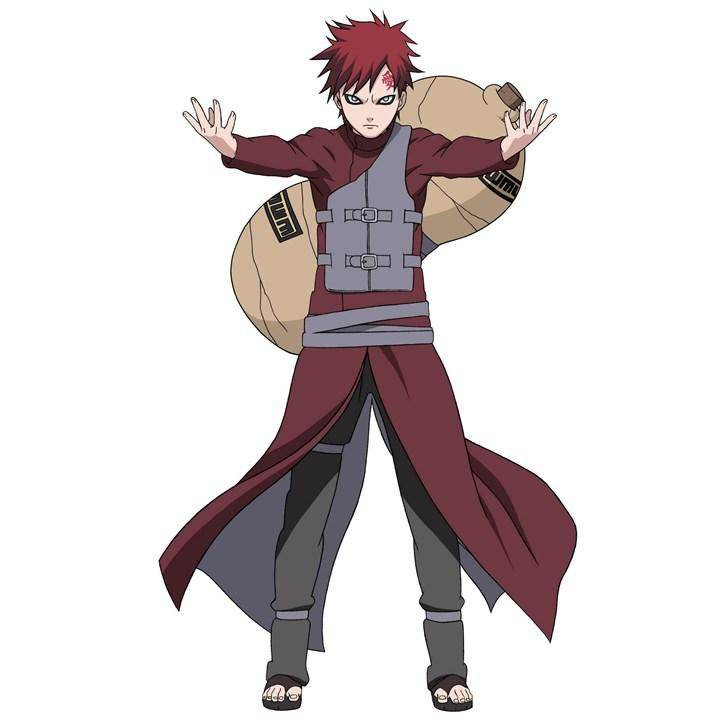gaara: (324, 47, 413, 143)
